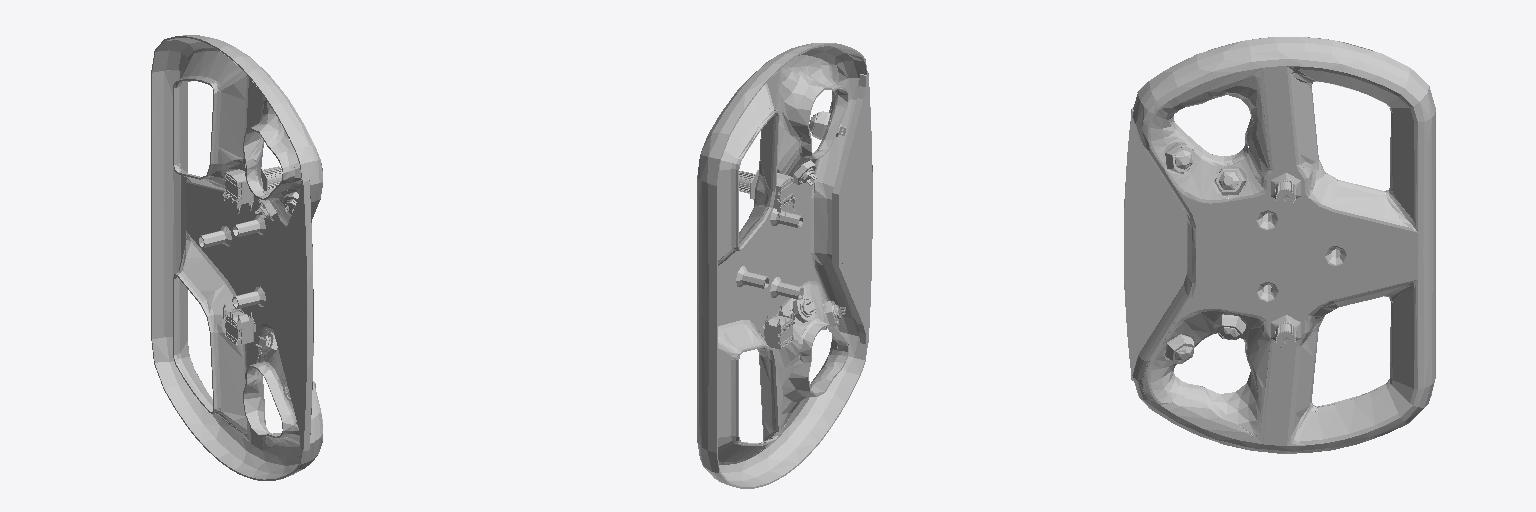
File: SteeringWheel.obj
The picture shows the model from 3 angles: view 1: azimuth 30°, elevation 25°; view 2: azimuth 150°, elevation 25°; view 3: azimuth 270°, elevation 25°; orthographic projection.
Visible parts, largest first — view 1: steering_wheel_asm_849959; view 2: steering_wheel_asm_849959; view 3: steering_wheel_asm_849959.
Boxes of the visible parts, <box> form: steering_wheel_asm_849959: <box>151,35,322,480</box>; steering_wheel_asm_849959: <box>697,43,872,488</box>; steering_wheel_asm_849959: <box>1124,37,1435,453</box>.
Bounding box in the file's own units: 0.0034 × 0.025 × 0.0171.